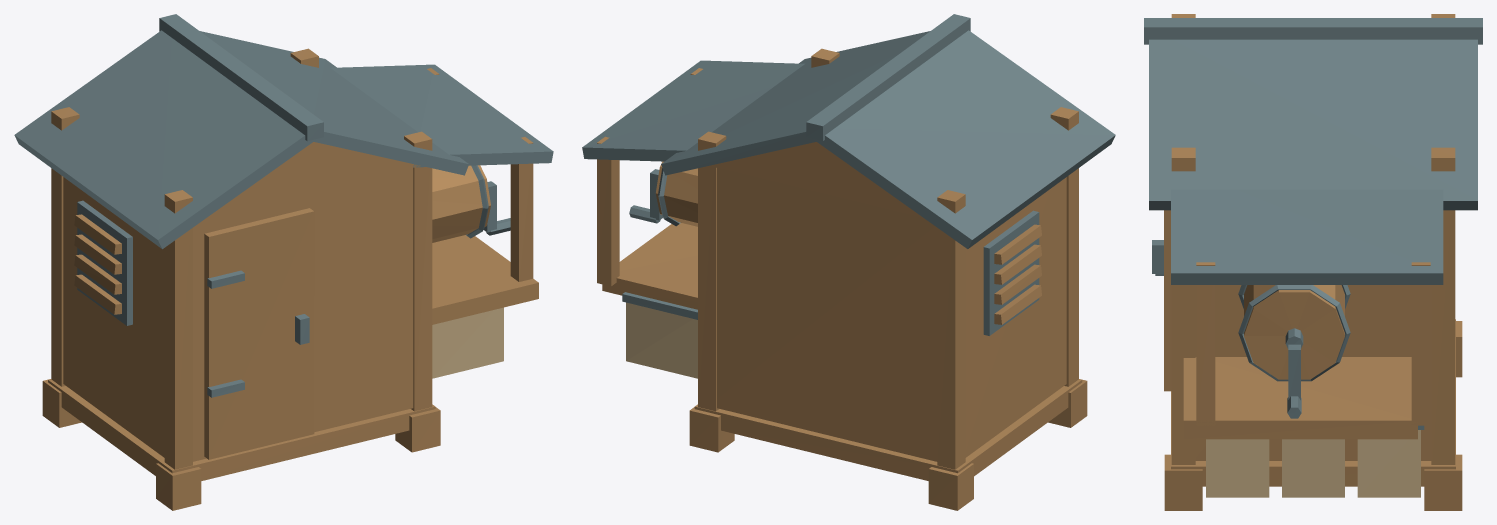
The model's file is seed-house.source.glb.
3 renders of one model, left to right at view 1: azimuth 30°, elevation 25°; view 2: azimuth 150°, elevation 25°; view 3: azimuth 270°, elevation 25°, orthographic. The views are drawn at different scales.
Visible parts, largest first — view 1: seed-house-left-roof-panel-mesh, seed-house-front-wall-mesh, seed-house-front-door-leaf-mesh, seed-house-left-wall-mesh, seed-house-service-awning-mesh, seed-house-right-roof-panel-mesh, seed-house-floor-mesh, seed-house-front-left-post-mesh, seed-house-loading-shelf-mesh, seed-house-front-gable-mesh, seed-house-front-right-post-mesh, seed-house-roof-ridge-mesh (+12 smaller); view 2: seed-house-rear-wall-mesh, seed-house-left-roof-panel-mesh, seed-house-left-wall-mesh, seed-house-service-awning-mesh, seed-house-right-roof-panel-mesh, seed-house-floor-mesh, seed-house-rear-left-post-mesh, seed-house-rear-gable-mesh, seed-house-loading-shelf-mesh, seed-house-rear-right-post-mesh, seed-house-roof-ridge-mesh, seed-house-seed-bin-1-mesh (+12 smaller); view 3: seed-house-right-roof-panel-mesh, seed-house-service-awning-mesh, seed-house-loading-shelf-mesh, seed-house-right-wall-mesh, seed-house-roof-ridge-mesh, seed-house-cleaner-drum-shell-mesh, seed-house-rear-right-post-mesh, seed-house-front-right-post-mesh, seed-house-seed-bin-1-mesh, seed-house-seed-bin-3-mesh, seed-house-seed-bin-2-mesh, seed-house-awning-support-rear-mesh (+9 smaller).
Part boxes in pixels (<box>): seed-house-left-roof-panel-mesh: <box>14,30,316,249</box>; seed-house-front-wall-mesh: <box>193,168,413,461</box>; seed-house-front-door-leaf-mesh: <box>204,208,314,459</box>; seed-house-left-wall-mesh: <box>63,177,164,457</box>; seed-house-service-awning-mesh: <box>331,64,553,167</box>; seed-house-right-roof-panel-mesh: <box>200,31,468,175</box>; seed-house-floor-mesh: <box>48,379,435,480</box>; seed-house-front-left-post-mesh: <box>164,190,192,469</box>; seed-house-loading-shelf-mesh: <box>432,235,538,324</box>; seed-house-front-gable-mesh: <box>206,142,420,218</box>; seed-house-front-right-post-mesh: <box>404,131,432,411</box>; seed-house-roof-ridge-mesh: <box>159,14,323,141</box>; seed-house-rear-wall-mesh: <box>717,168,937,461</box>; seed-house-left-roof-panel-mesh: <box>813,30,1115,248</box>; seed-house-left-wall-mesh: <box>965,177,1066,457</box>; seed-house-service-awning-mesh: <box>582,60,804,161</box>; seed-house-right-roof-panel-mesh: <box>661,31,930,175</box>; seed-house-floor-mesh: <box>694,379,1082,480</box>; seed-house-rear-left-post-mesh: <box>937,190,965,469</box>; seed-house-rear-gable-mesh: <box>709,142,923,218</box>; seed-house-loading-shelf-mesh: <box>602,223,697,309</box>; seed-house-rear-right-post-mesh: <box>698,131,726,411</box>; seed-house-roof-ridge-mesh: <box>806,14,970,141</box>; seed-house-seed-bin-1-mesh: <box>626,302,697,378</box>; seed-house-right-roof-panel-mesh: <box>1149,39,1477,210</box>; seed-house-service-awning-mesh: <box>1171,189,1443,284</box>; seed-house-loading-shelf-mesh: <box>1183,357,1417,439</box>; seed-house-right-wall-mesh: <box>1195,285,1431,460</box>; seed-house-roof-ridge-mesh: <box>1144,18,1482,44</box>; seed-house-cleaner-drum-shell-mesh: <box>1244,285,1344,379</box>; seed-house-rear-right-post-mesh: <box>1431,147,1455,464</box>; seed-house-front-right-post-mesh: <box>1171,147,1195,464</box>; seed-house-seed-bin-1-mesh: <box>1357,430,1420,497</box>; seed-house-seed-bin-3-mesh: <box>1206,439,1269,497</box>; seed-house-seed-bin-2-mesh: <box>1282,439,1344,497</box>; seed-house-awning-support-rear-mesh: <box>1411,262,1430,425</box>.
Size of the model in its own units: 3.51 by 2.88 by 2.14.
